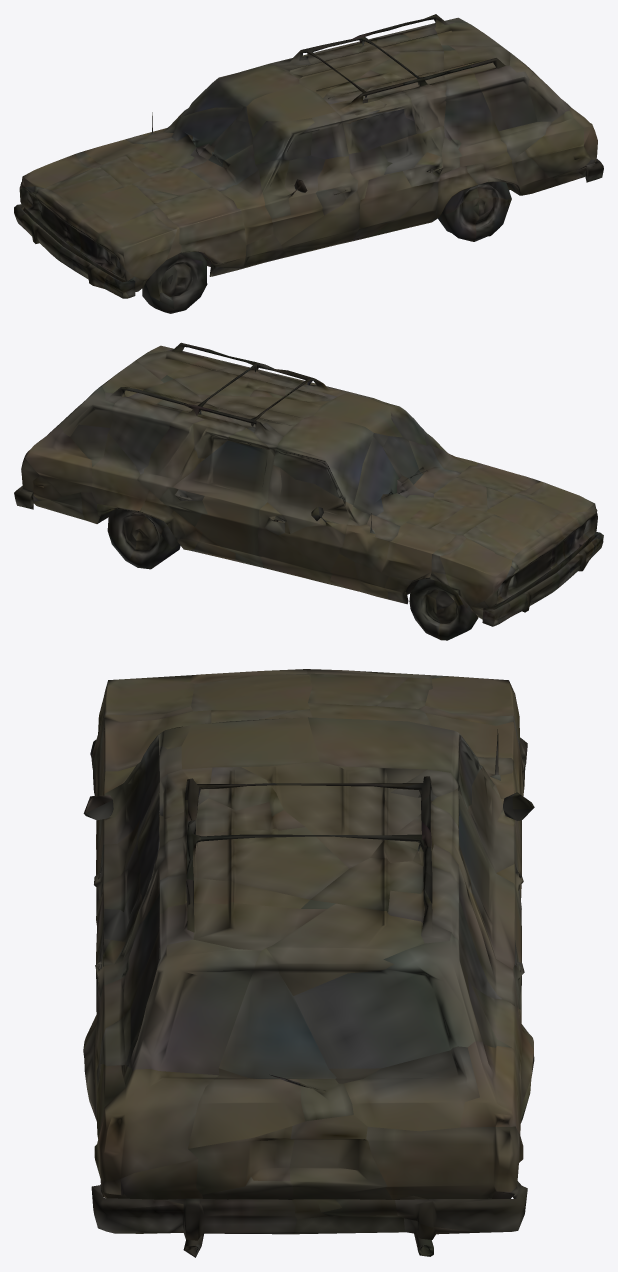
File: car_hatchback_light_q2.glb
3 renders of one model, top to bottom at view 1: azimuth 30°, elevation 25°; view 2: azimuth 150°, elevation 25°; view 3: azimuth 270°, elevation 25°, orthographic. The views are drawn at different scales.
Size of the model in its own units: 4.62 by 1.44 by 1.82.
1 material, 1 textured.
